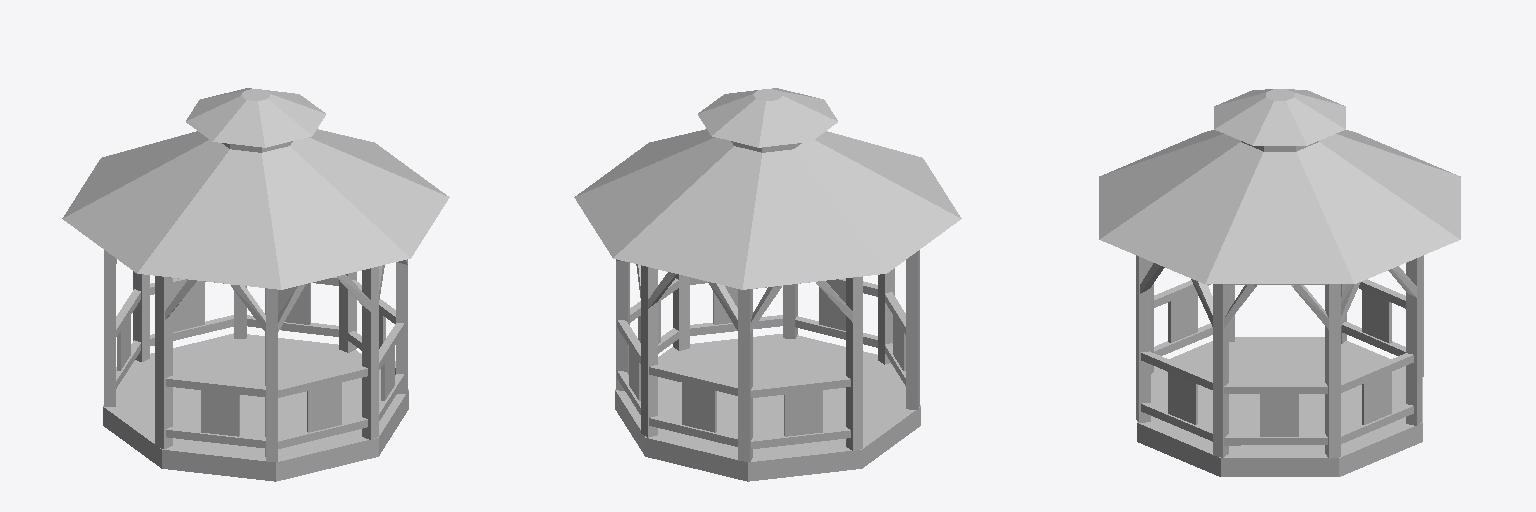
File: Gazebo.obj
The picture shows the model from 3 angles: view 1: azimuth 30°, elevation 25°; view 2: azimuth 150°, elevation 25°; view 3: azimuth 270°, elevation 25°; orthographic projection.
Parts seen in each view (by area): view 1: gazebo_Cylinder.057; view 2: gazebo_Cylinder.057; view 3: gazebo_Cylinder.057.
Part boxes in pixels (bbox=[...]): gazebo_Cylinder.057: bbox=[62, 88, 449, 481]; gazebo_Cylinder.057: bbox=[574, 88, 961, 481]; gazebo_Cylinder.057: bbox=[1099, 89, 1460, 476].
Size of the model in its own units: 3.35 by 3.29 by 3.35.